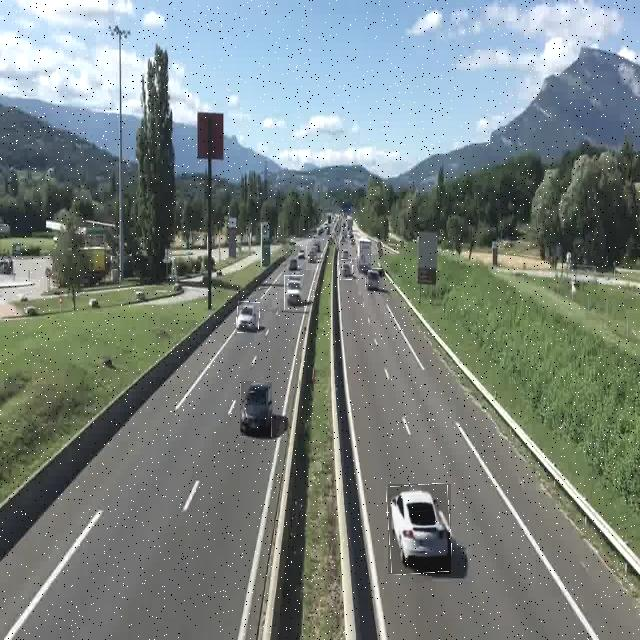Car: (388, 484, 451, 574), (240, 381, 272, 437), (237, 302, 259, 333), (284, 275, 303, 310), (365, 268, 382, 291), (306, 247, 318, 270), (339, 260, 352, 280)
Truck: (356, 236, 372, 278)
